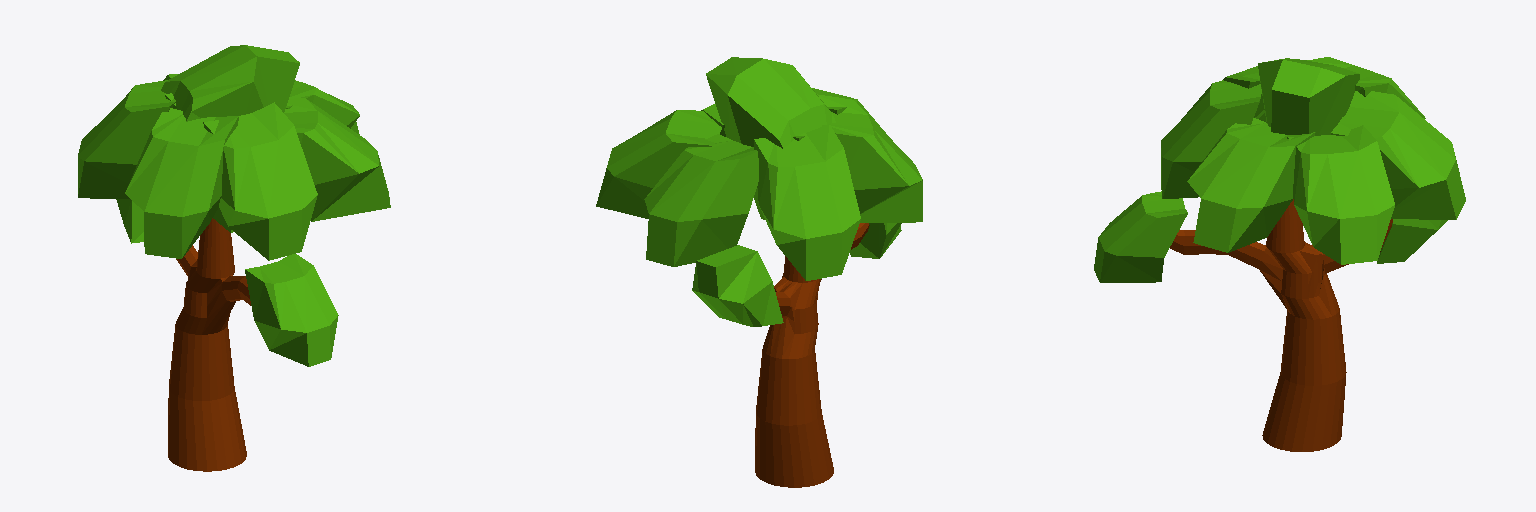
File: Arvore.obj
3 views of the same model, side by side, from view 1: azimuth 30°, elevation 25°; view 2: azimuth 150°, elevation 25°; view 3: azimuth 270°, elevation 25° (orthographic).
Parts seen in each view (by area): view 1: Cone001, Box002, Box003, Box001, Box008, Box009, Box004, Box007, Box010; view 2: Cone001, Box004, Box005, Box009, Box003, Box007, Box010, Box001; view 3: Cone001, Box007, Box008, Box005, Box009, Box001, Box002, Box010, Box004, Box003.
Boxes of the visible parts, box(x1,y1,x2,y2) form: Cone001: box(168, 218, 250, 471); Box002: box(203, 102, 317, 260); Box003: box(125, 108, 238, 258); Box001: box(245, 254, 338, 366); Box008: box(284, 98, 390, 221); Box009: box(161, 45, 299, 121); Box004: box(78, 80, 175, 198); Box007: box(286, 80, 359, 134); Box010: box(116, 199, 143, 243); Cone001: box(755, 223, 869, 487); Box004: box(754, 124, 860, 280); Box005: box(644, 134, 758, 266); Box009: box(706, 57, 835, 148); Box003: box(817, 94, 922, 222); Box007: box(596, 110, 721, 218); Box010: box(692, 245, 783, 326); Box001: box(850, 223, 901, 258); Cone001: box(1170, 199, 1392, 451); Box007: box(1287, 125, 1394, 264); Box008: box(1187, 118, 1315, 252); Box005: box(1331, 91, 1465, 219); Box009: box(1258, 58, 1359, 135); Box001: box(1094, 191, 1187, 282); Box002: box(1161, 73, 1261, 198); Box010: box(1377, 219, 1447, 263); Box004: box(1307, 57, 1425, 118); Box003: box(1223, 66, 1264, 118).
Bounding box in the file's own units: 62.25 × 86.39 × 73.72.